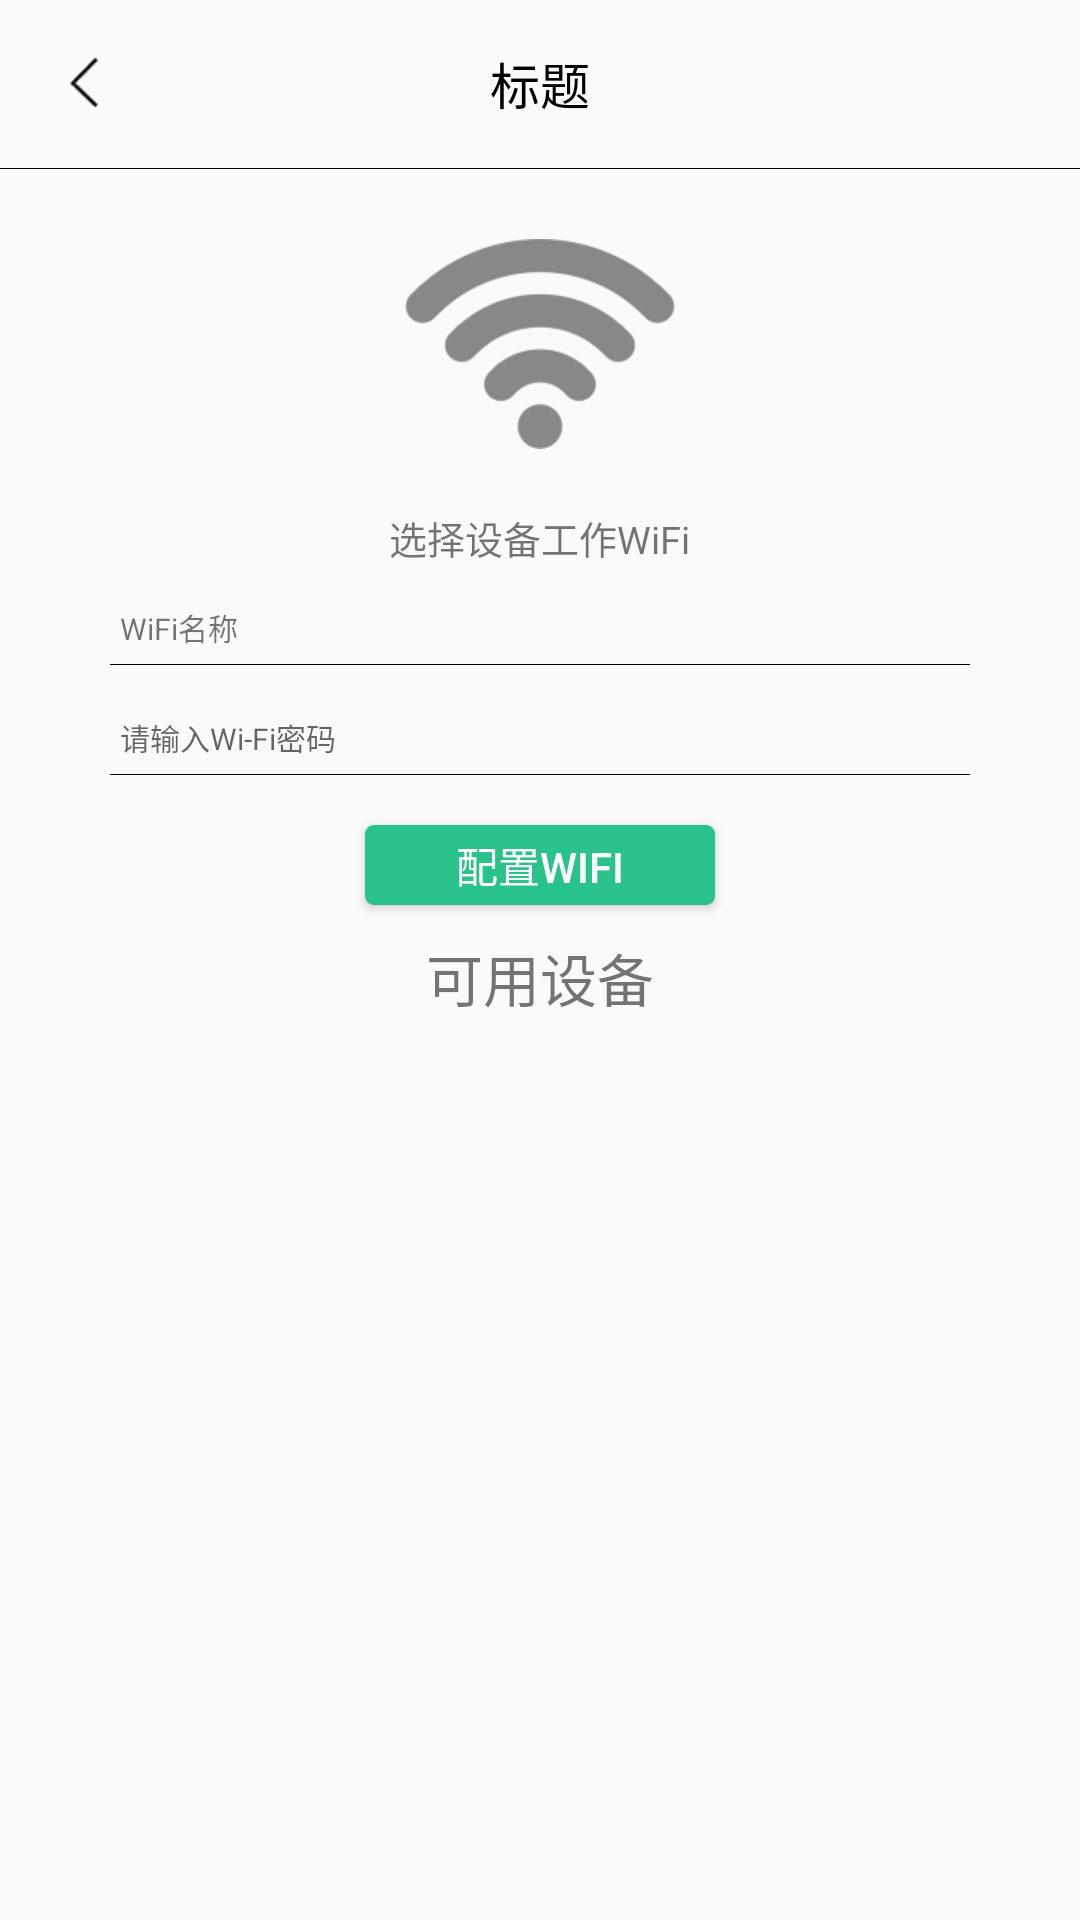

Named icons in this screenshot (1080px x 1920px) and their bounding boxes, (x1, y1, x2, y2):
back: (70, 57, 98, 108)
